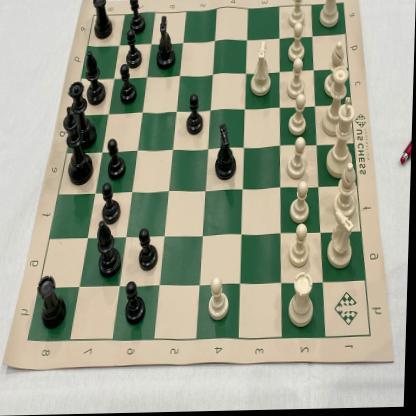black-bishop: (97, 221, 124, 280), (85, 49, 106, 107)
black-king: (63, 106, 96, 187)
black-knight: (214, 122, 239, 182), (156, 16, 178, 70)
black-pawn: (138, 227, 161, 274), (99, 183, 123, 225), (127, 281, 148, 325), (108, 137, 128, 181), (186, 93, 206, 136), (119, 65, 137, 107), (125, 29, 143, 70), (127, 0, 147, 35)
black-queen: (66, 80, 99, 150)
black-rook: (38, 273, 71, 330), (93, 0, 113, 40)
white-bishop: (334, 165, 359, 221), (324, 42, 346, 99)
white-king: (327, 98, 357, 178)
white-knight: (328, 211, 358, 271), (251, 41, 273, 102)
white-pawn: (209, 275, 232, 324), (290, 224, 312, 269), (291, 180, 312, 224), (288, 138, 309, 180), (289, 95, 308, 137), (288, 61, 306, 100), (288, 24, 305, 62), (289, 0, 305, 29)
white-queen: (323, 65, 350, 138)
white-rook: (290, 271, 317, 330), (320, 0, 340, 29)
